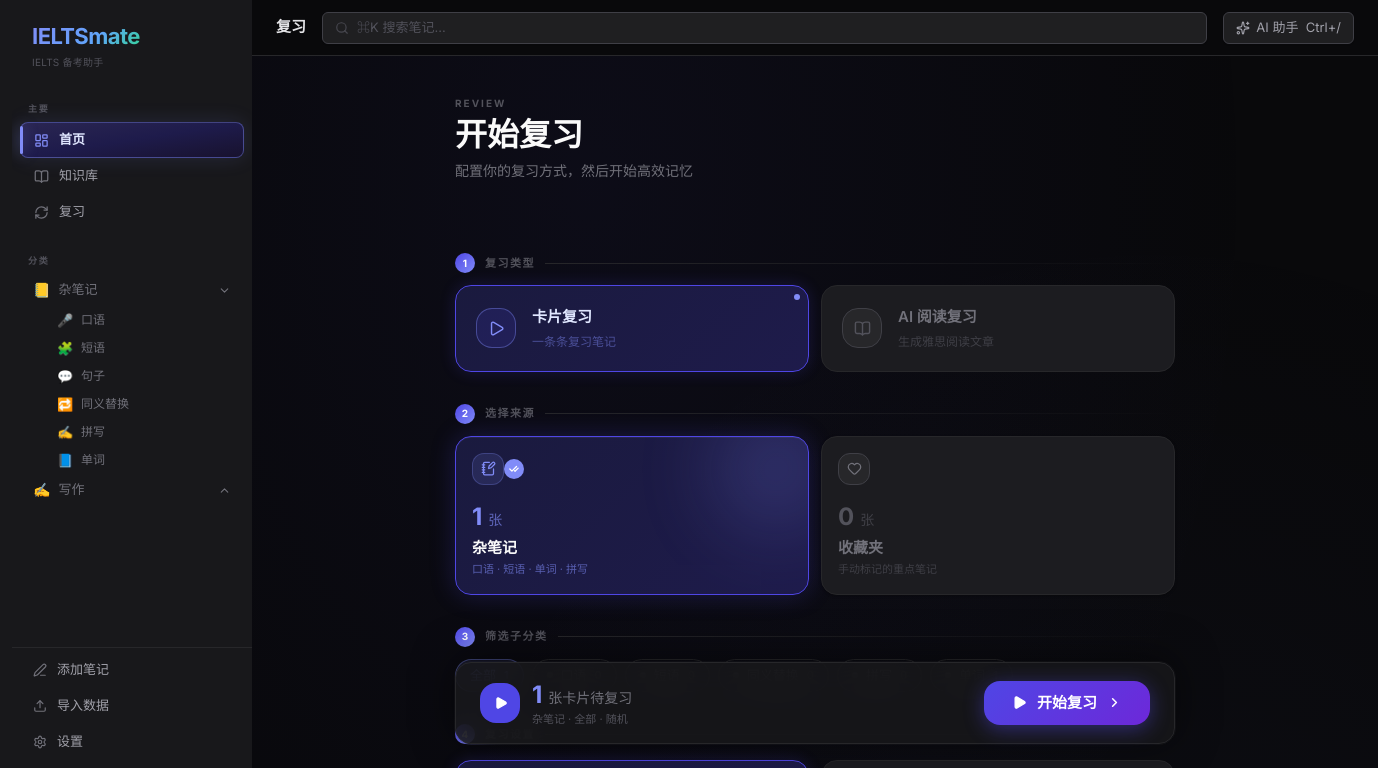
Test case: ReviewSelection › 预热超时时仍会跳转并展示轻提示
This screenshot has width=1378, height=768.
Click the button "开始复习". click: (1067, 703)
box: [984,681,1150,725]
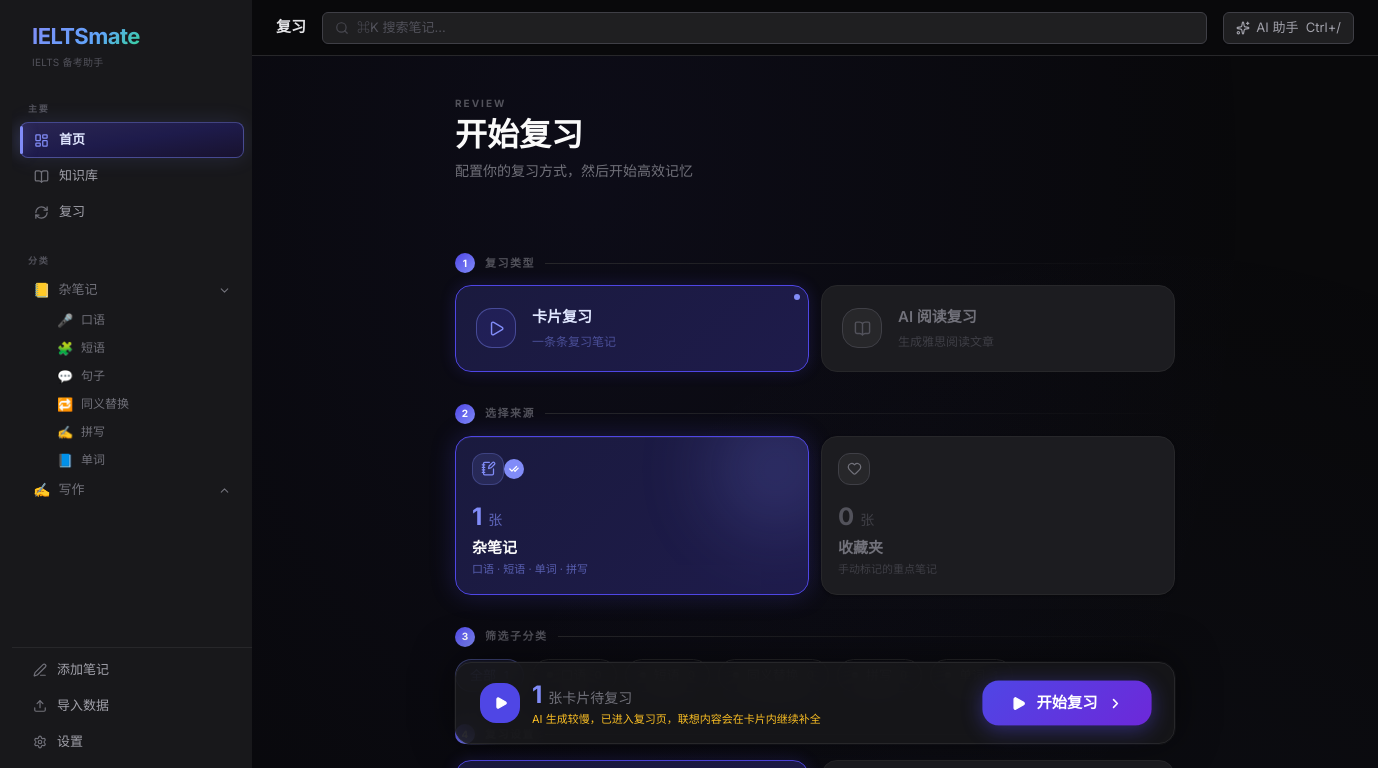
Check: the text "AI 生成较慢，已进入复习页，联想内容会在卡片内继续补全" is shown, box [532,710,821,727]
